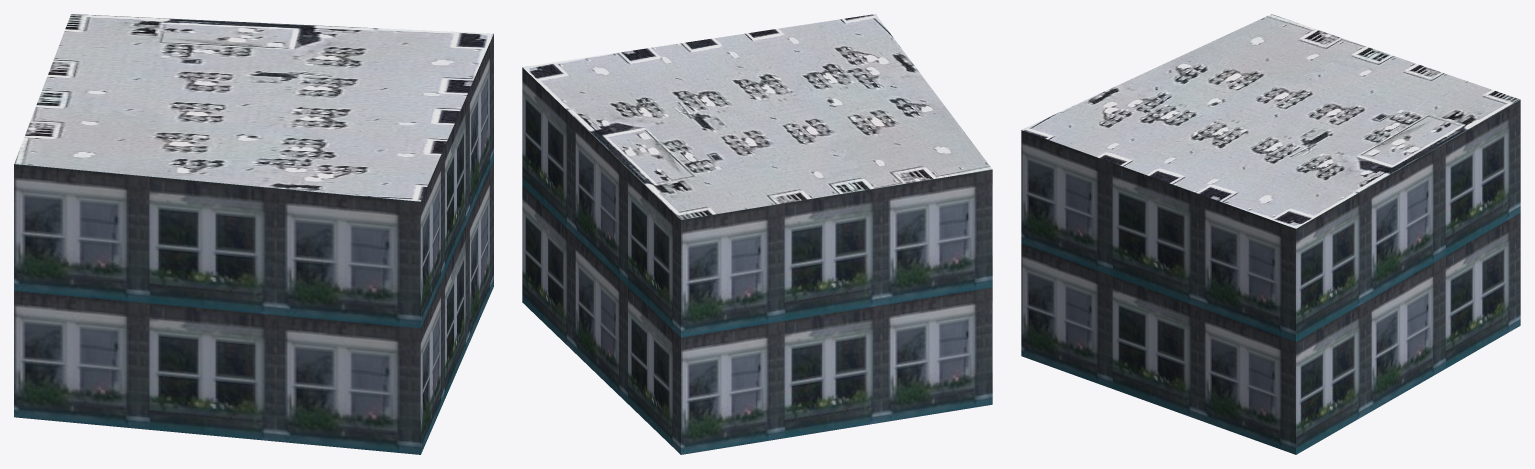
File: ResTex__1161.fbx
The picture shows the model from 3 angles, left to right: view 1: azimuth 30°, elevation 25°; view 2: azimuth 150°, elevation 25°; view 3: azimuth 270°, elevation 25°; orthographic projection. The views are drawn at different scales.
Parts seen in each view (by area): view 1: CityEngineMaterial_11_m, CityEngineMaterial_m; view 2: CityEngineMaterial_11_m, CityEngineMaterial_m; view 3: CityEngineMaterial_11_m, CityEngineMaterial_m.
Boxes of the visible parts, x1,y1,x2,y2 form: CityEngineMaterial_11_m: (14,34,493,454); CityEngineMaterial_m: (14,14,493,201); CityEngineMaterial_11_m: (522,67,992,454); CityEngineMaterial_m: (522,14,992,219); CityEngineMaterial_11_m: (1021,100,1520,454); CityEngineMaterial_m: (1022,14,1520,228).
Bounding box in the file's own units: 12.23 × 6 × 12.01.
2 materials, 2 textured.
